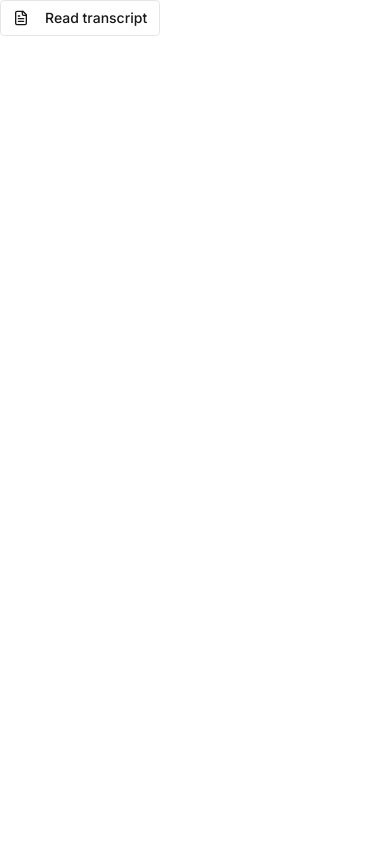
explains when a recording has no synced transcript
Click the button "Read transcript" at (80, 18), box [0,0,160,36]
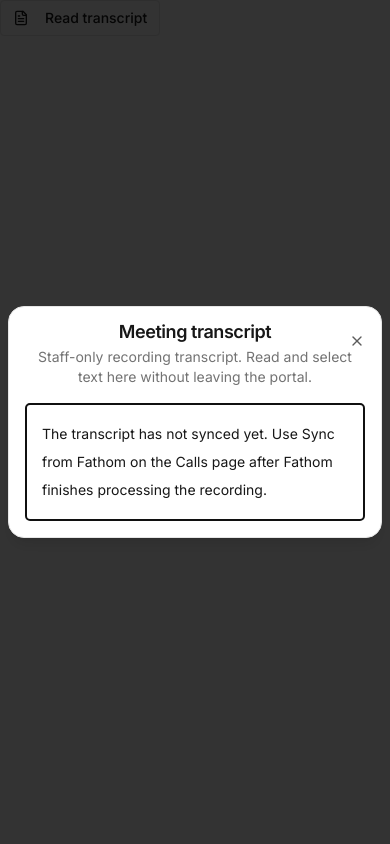
Expected: the text "The transcript has not synced yet" is shown, [42,425,339,498]
